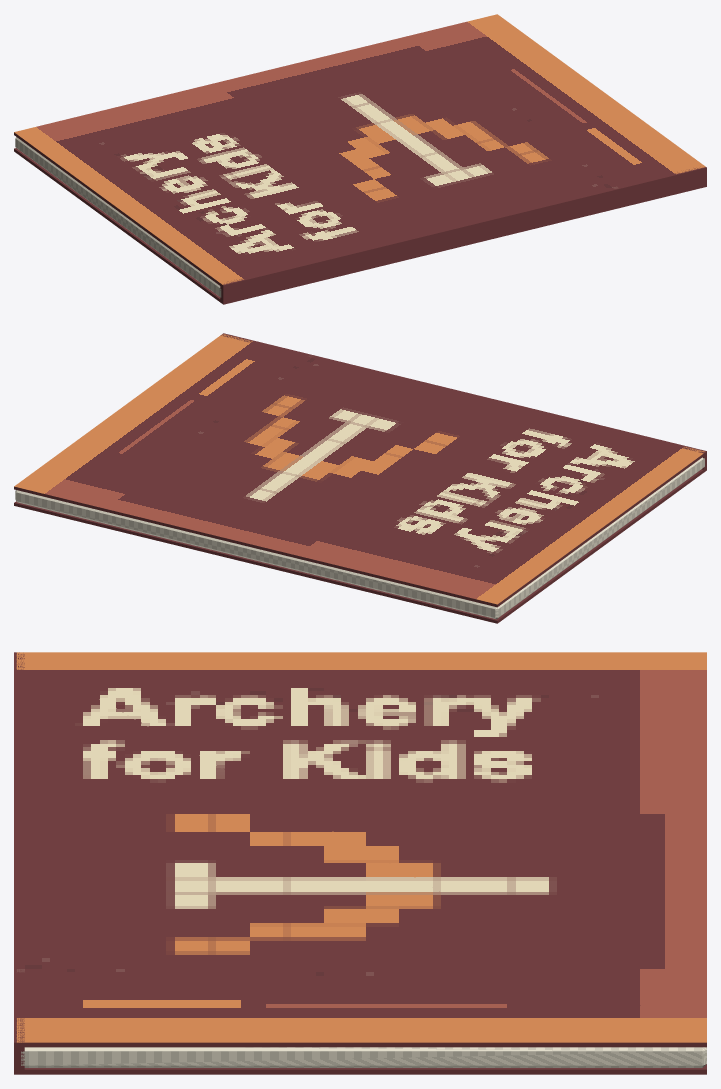
File: mag_archery.glb
3 renders of one model, top to bottom at view 1: azimuth 30°, elevation 25°; view 2: azimuth 150°, elevation 25°; view 3: azimuth 270°, elevation 25°, orthographic. The views are drawn at different scales.
Parts seen in each view (by area): view 1: block_front, block_spine, block_pages, block_back; view 2: block_front, block_pages, block_back, block_spine; view 3: block_front, block_pages, block_back, block_spine.
Boxes of the visible parts, left/top/right/bottom form: block_front: left=14, top=14, right=705, bottom=287; block_spine: left=220, top=167, right=706, bottom=304; block_pages: left=15, top=137, right=221, bottom=297; block_back: left=14, top=148, right=222, bottom=303; block_front: left=14, top=334, right=706, bottom=607; block_pages: left=15, top=457, right=704, bottom=619; block_back: left=14, top=468, right=706, bottom=623; block_spine: left=220, top=333, right=706, bottom=470; block_front: left=16, top=652, right=706, bottom=1047; block_pages: left=21, top=1047, right=706, bottom=1067; block_back: left=16, top=1064, right=706, bottom=1074; block_spine: left=14, top=652, right=24, bottom=1074.
Bounding box in the file's own units: 0.2154 × 0.00821 × 0.1617.
Materials: 1 (1 with a texture image).
